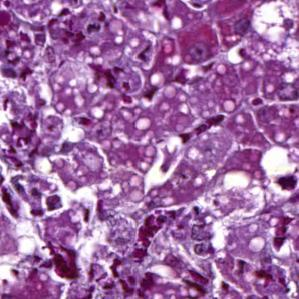ballooning: (251, 3, 299, 47)
